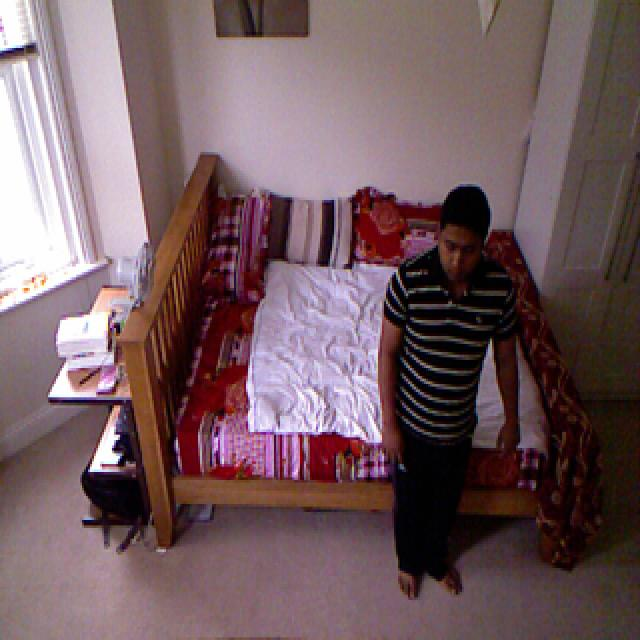standing: (384, 184, 517, 599)
